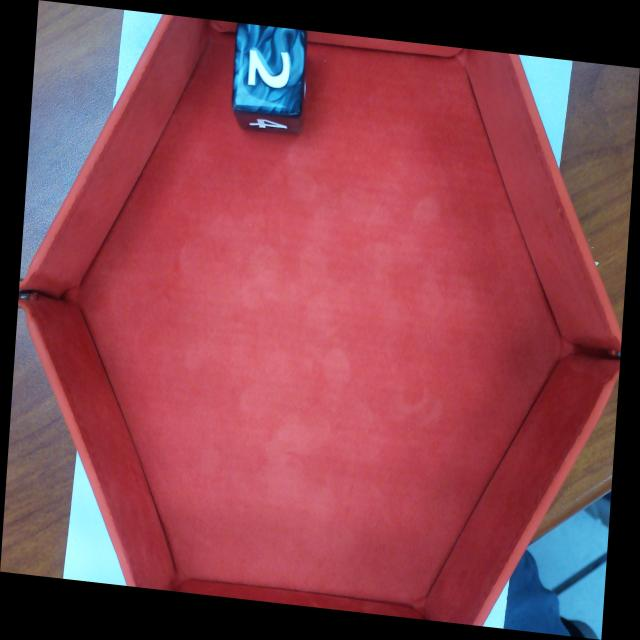dice: (233, 22, 307, 119)
